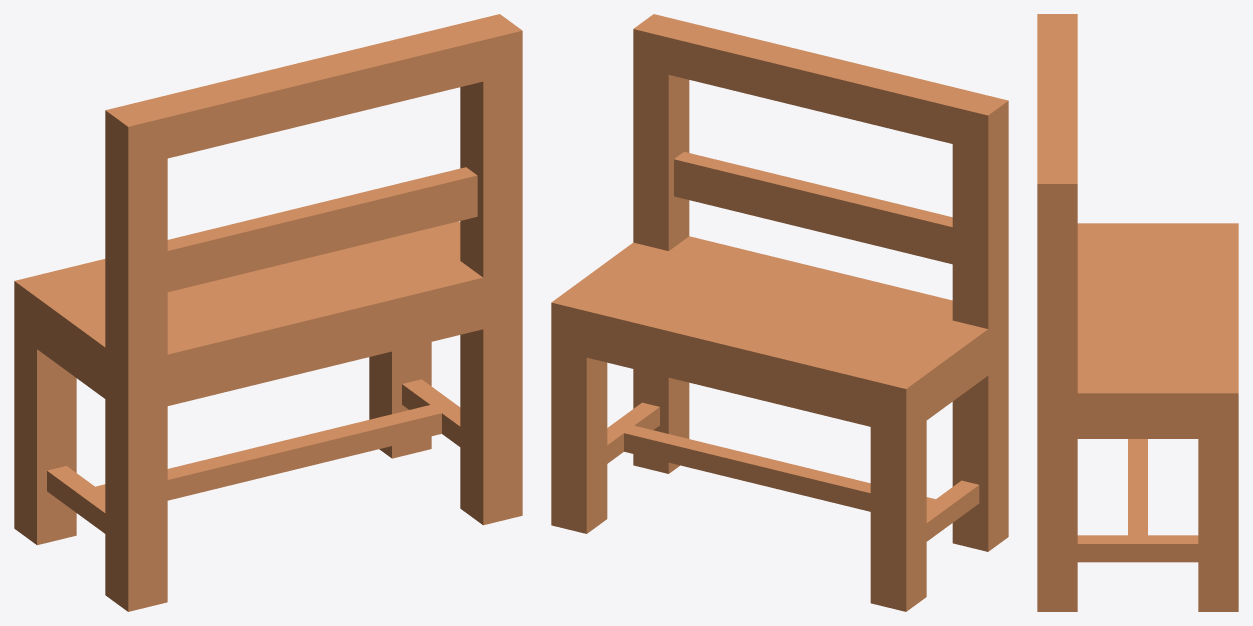
File: bench.fbx
3 renders of one model, left to right at view 1: azimuth 30°, elevation 25°; view 2: azimuth 150°, elevation 25°; view 3: azimuth 270°, elevation 25°, orthographic. The views are drawn at different scales.
Parts seen in each view (by area): view 1: bench; view 2: bench; view 3: bench.
Boxes of the visible parts, left/top/right/bottom form: bench: left=14, top=14, right=522, bottom=611; bench: left=551, top=14, right=1008, bottom=611; bench: left=1037, top=14, right=1238, bottom=611.
Size of the model in its own units: 4 by 4.7 by 2.
